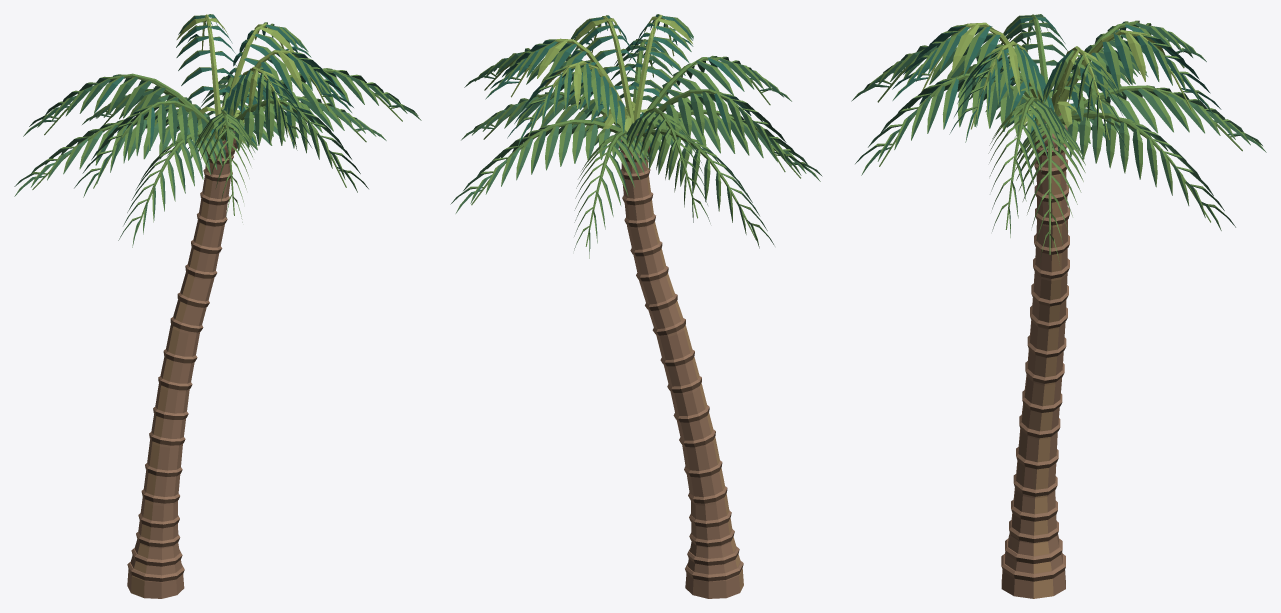
The model's file is SM_CoastalPalm.fbx.
3 views of the same model, side by side, from view 1: azimuth 30°, elevation 25°; view 2: azimuth 150°, elevation 25°; view 3: azimuth 270°, elevation 25° (orthographic). The views are drawn at different scales.
Parts seen in each view (by area): view 1: SM_CoastalPalm; view 2: SM_CoastalPalm; view 3: SM_CoastalPalm.
Boxes of the visible parts, x1,y1,x2,y2 form: SM_CoastalPalm: [14, 14, 421, 598]; SM_CoastalPalm: [450, 14, 822, 598]; SM_CoastalPalm: [851, 14, 1266, 598].
Size of what is drawn, in the model's own units: 356 by 308 by 497.
Materials: 1 (1 with a texture image).
